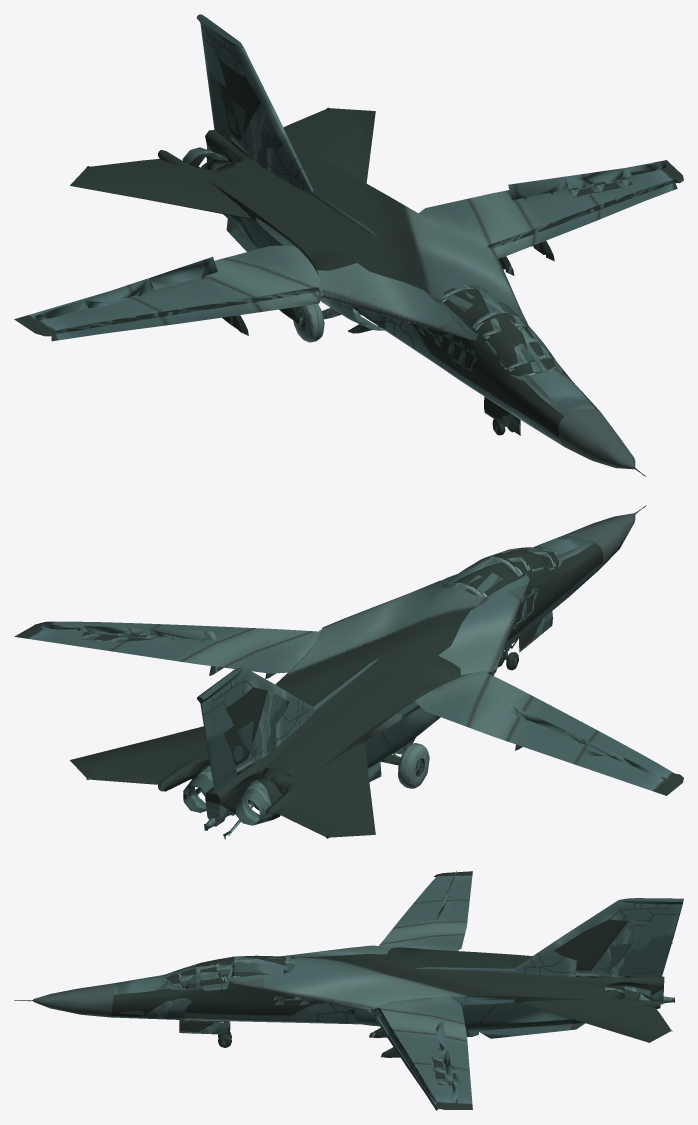
3 views of the same model, one above another, from view 1: azimuth 30°, elevation 25°; view 2: azimuth 150°, elevation 25°; view 3: azimuth 270°, elevation 25° (orthographic). The views are drawn at different scales.
Visible parts, largest first — view 1: F111top; view 2: F111top; view 3: F111top.
Boxes of the visible parts, x1,y1,x2,y2 form: F111top: (14, 14, 683, 476); F111top: (14, 505, 683, 839); F111top: (14, 870, 683, 1110).
Bounding box in the file's own units: 9445 × 2713 × 11196.
